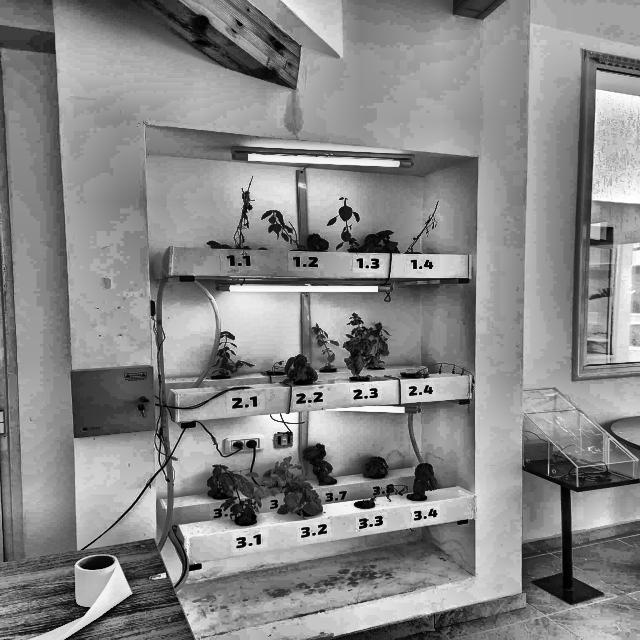plants: (213, 439, 276, 521), (415, 360, 476, 400), (260, 210, 311, 251), (329, 198, 366, 252), (403, 200, 441, 252), (259, 457, 301, 492), (344, 314, 368, 374), (304, 443, 339, 483), (235, 176, 254, 248), (280, 484, 324, 515), (212, 332, 238, 379), (362, 325, 387, 369), (314, 324, 338, 368), (411, 463, 437, 500), (284, 356, 318, 381), (361, 230, 397, 252), (369, 484, 406, 504), (364, 456, 388, 479), (308, 233, 328, 250)
